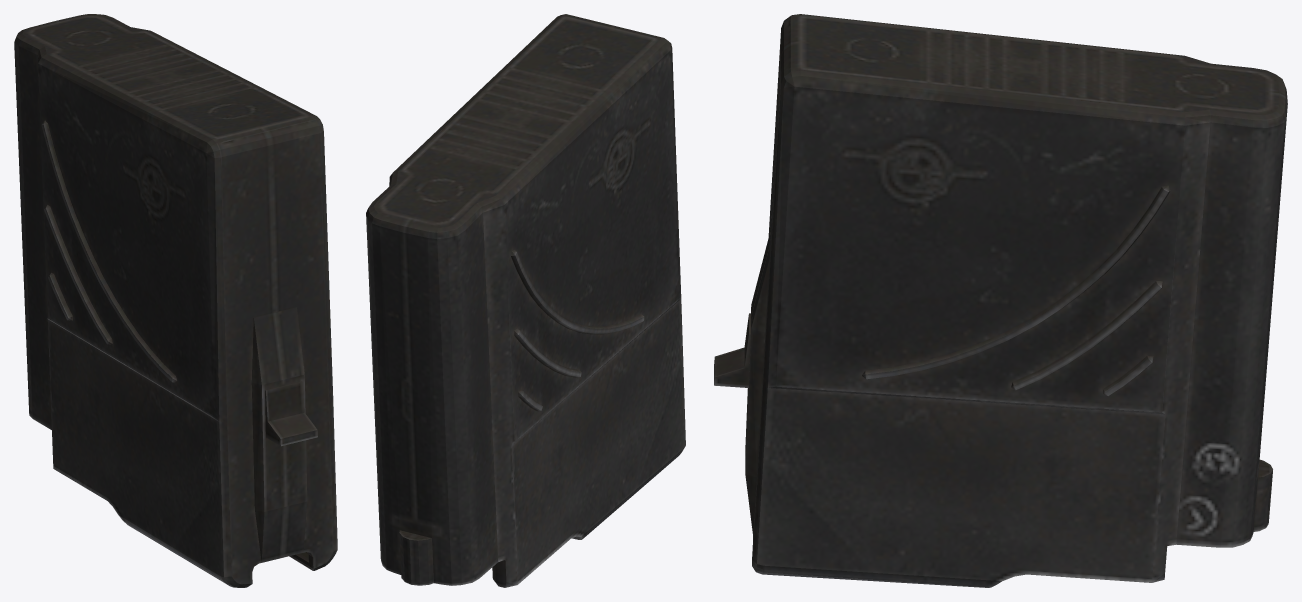
3 renders of one model, left to right at view 1: azimuth 30°, elevation 25°; view 2: azimuth 150°, elevation 25°; view 3: azimuth 270°, elevation 25°, orthographic. The views are drawn at different scales.
Visible parts, largest first — view 1: TW_5c503ac82e221602b21d6e9a_PZ_Import; view 2: TW_5c503ac82e221602b21d6e9a_PZ_Import; view 3: TW_5c503ac82e221602b21d6e9a_PZ_Import.
Boxes of the visible parts, left/top/right/bottom form: TW_5c503ac82e221602b21d6e9a_PZ_Import: left=14, top=14, right=337, bottom=587; TW_5c503ac82e221602b21d6e9a_PZ_Import: left=366, top=14, right=685, bottom=587; TW_5c503ac82e221602b21d6e9a_PZ_Import: left=714, top=14, right=1287, bottom=587.
Size of the model in its own units: 0.0137 by 0.0469 by 0.0468.
Materials: 1 (1 with a texture image).
